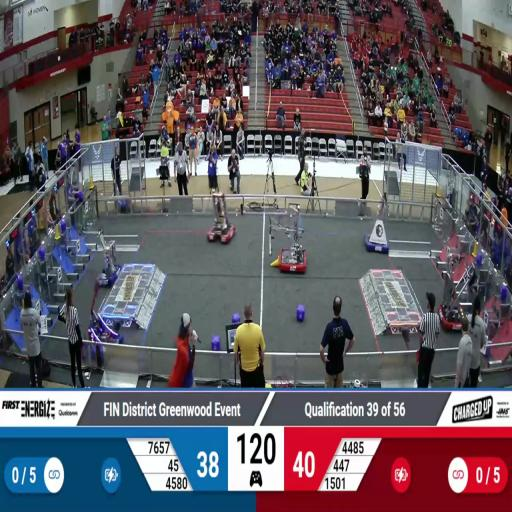robot: (436, 247, 476, 332), (268, 202, 308, 278), (86, 280, 124, 359), (362, 186, 392, 256), (206, 192, 237, 248), (94, 228, 122, 288)
